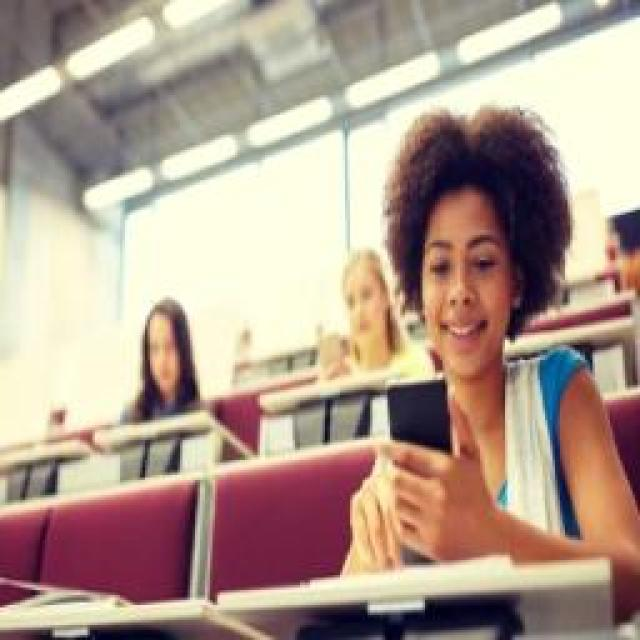phone: (337, 112, 615, 570)
